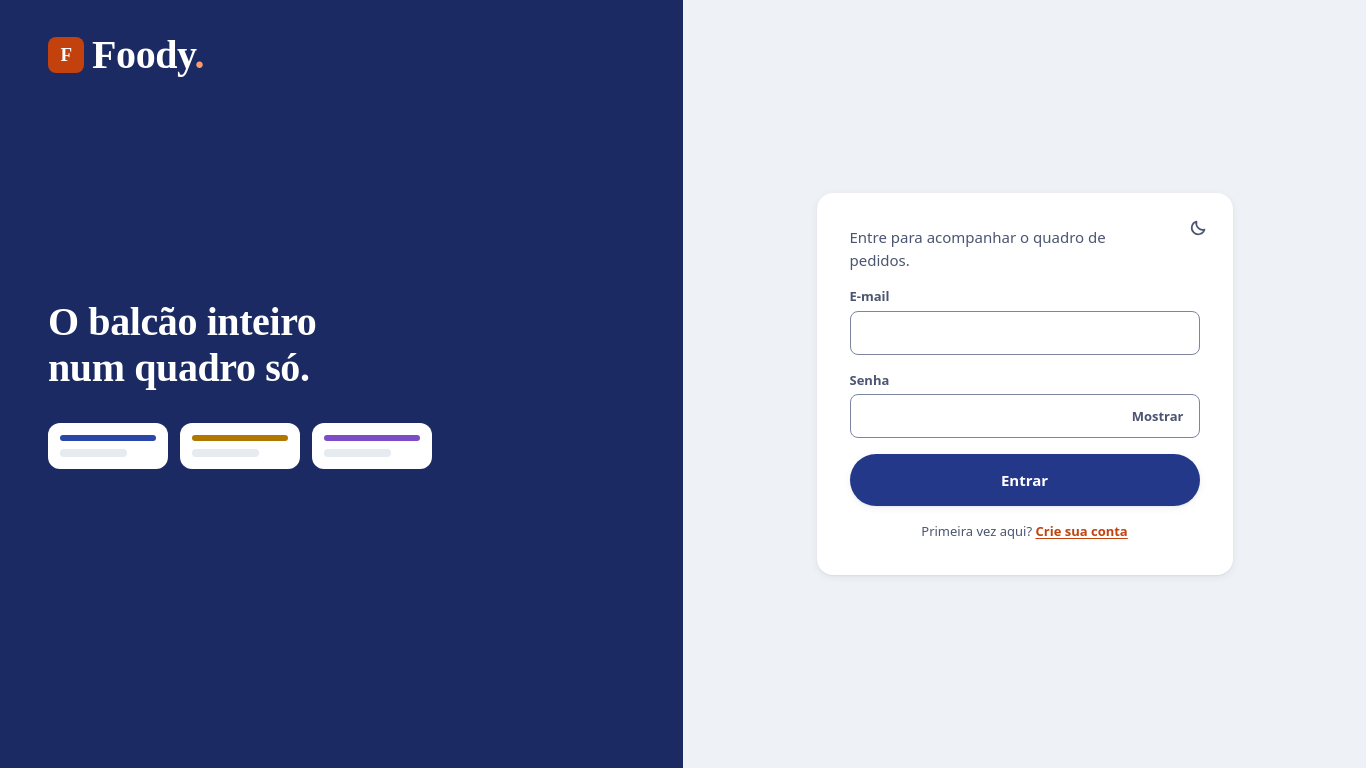
it: login e proteção de rota › credenciais inválidas mostram erro e mantêm o usuário no login
The width and height of the screenshot is (1366, 768).
Type "ana@foody.dev" into the field labelled "E-mail" at (1024, 333), box [850, 311, 1200, 355]
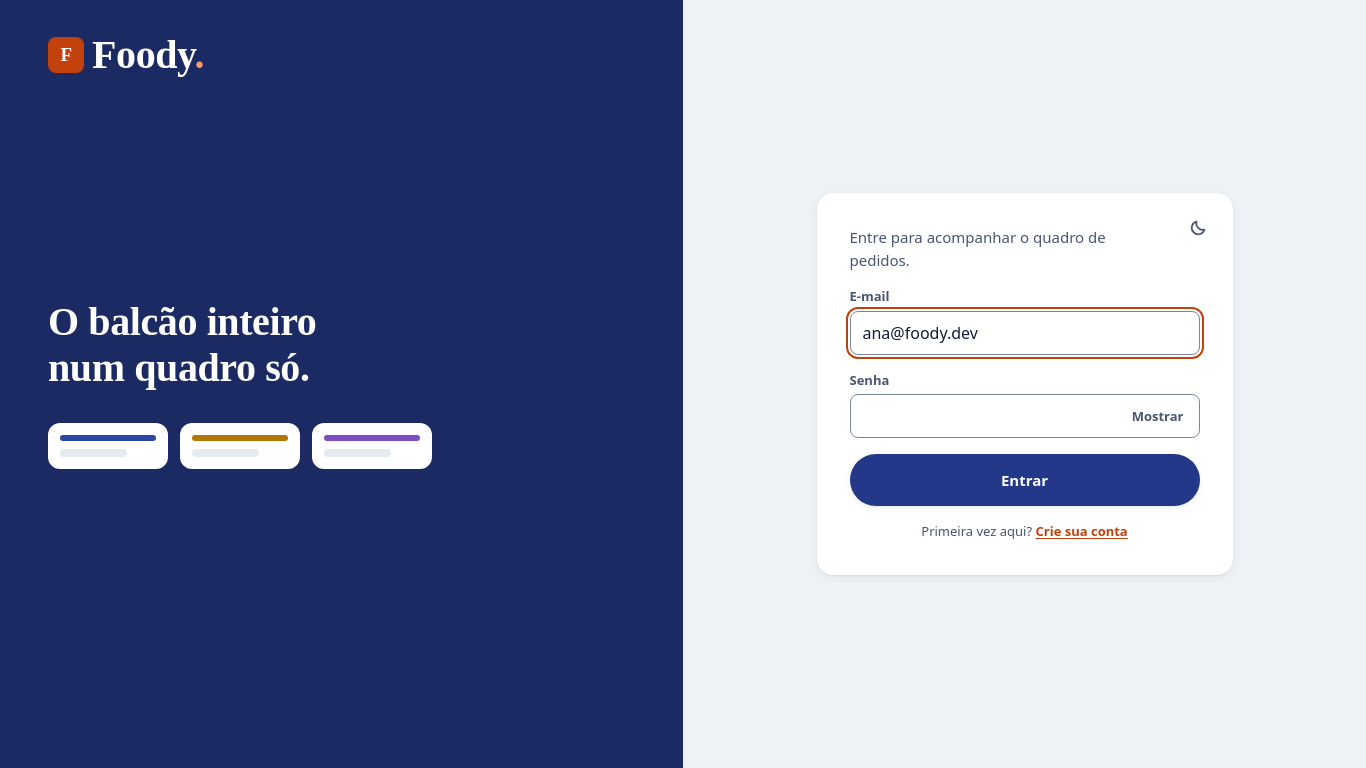
Type "errada" into the password field labelled "Senha" at (1024, 416), box [850, 394, 1200, 438]
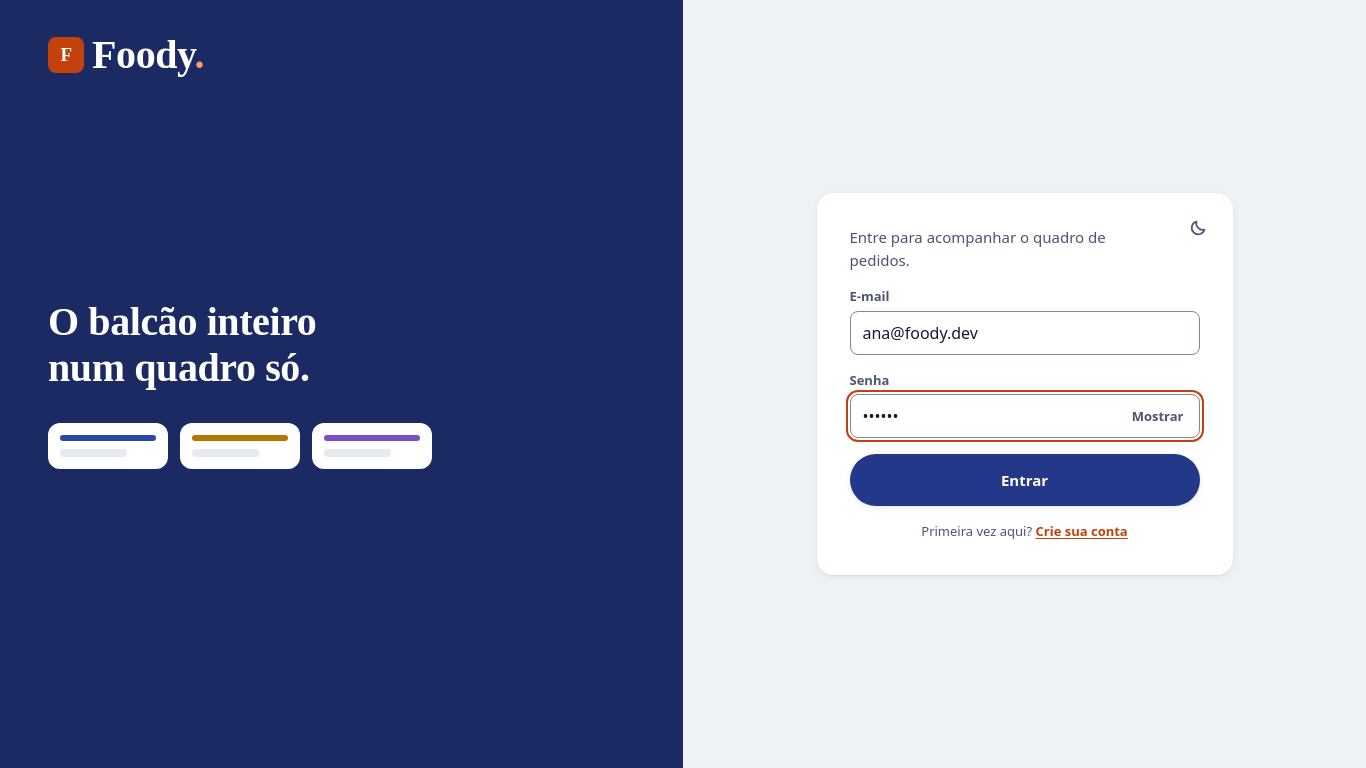
Click the button "Entrar" at (1024, 480), box [850, 454, 1200, 506]
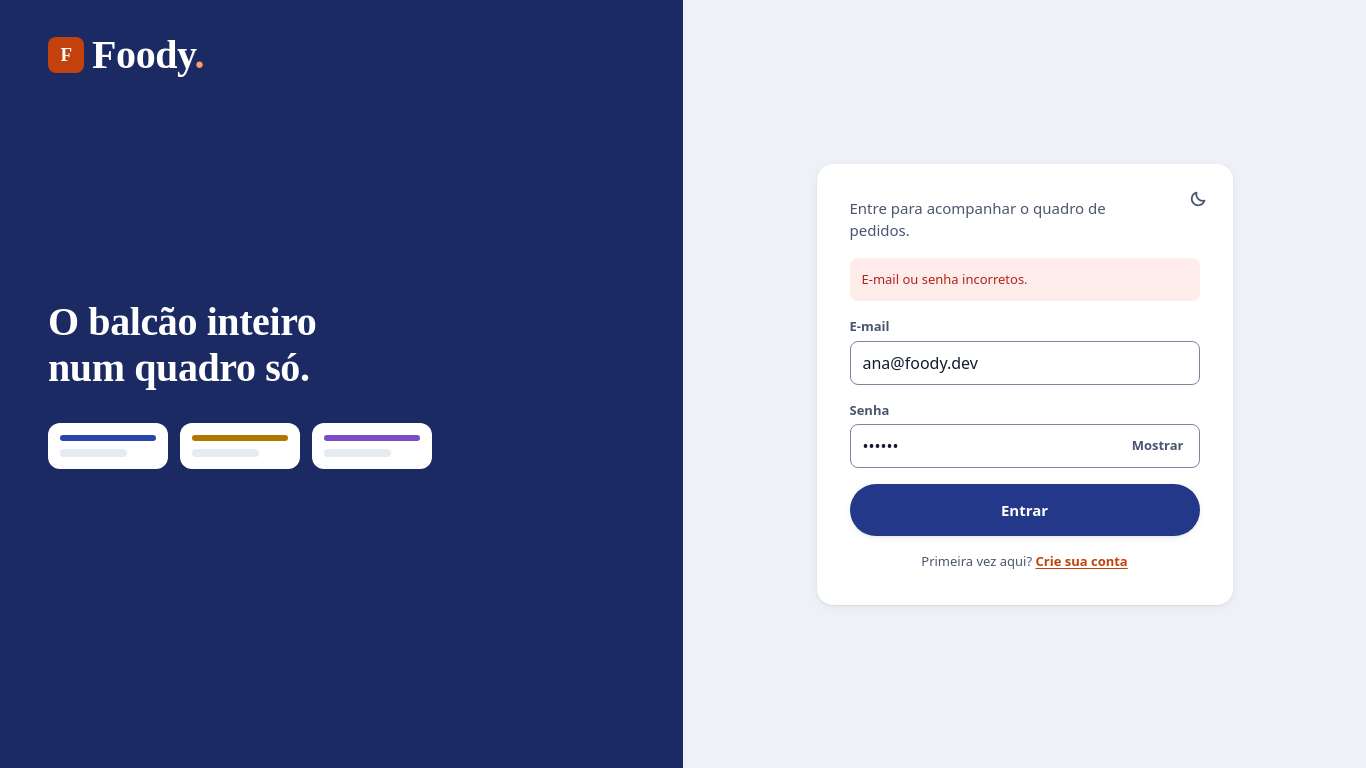
Expected: the button "Entrar" is shown, [850, 484, 1200, 536]
Expected: the text "E-mail ou senha incorretos." is shown, [850, 258, 1200, 301]
